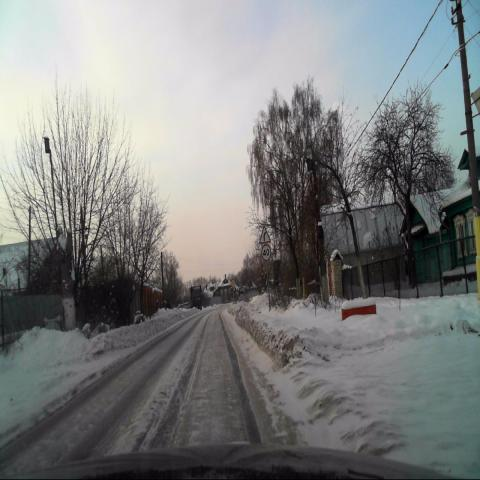1_11: (260, 225, 270, 244)
3_24: (261, 245, 271, 261)
